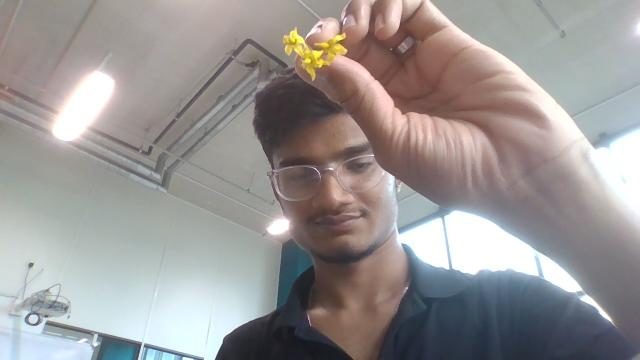Anthesis: (314, 32, 348, 64), (282, 28, 308, 57), (300, 48, 326, 76)
